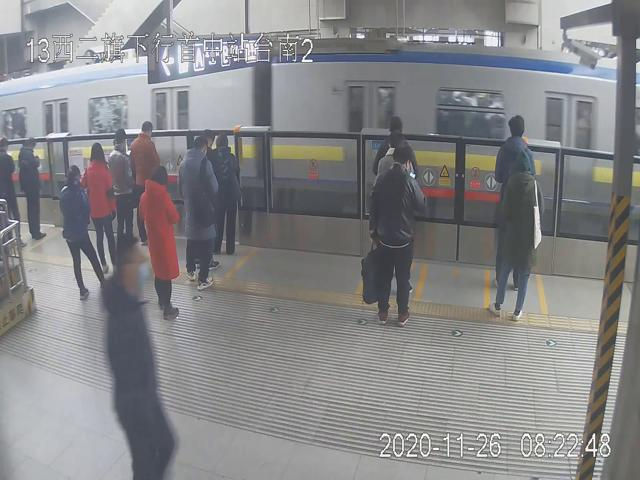person: (368, 146, 425, 325), (488, 149, 545, 323), (59, 164, 107, 300), (176, 137, 218, 292), (138, 166, 178, 320), (17, 134, 46, 241)
